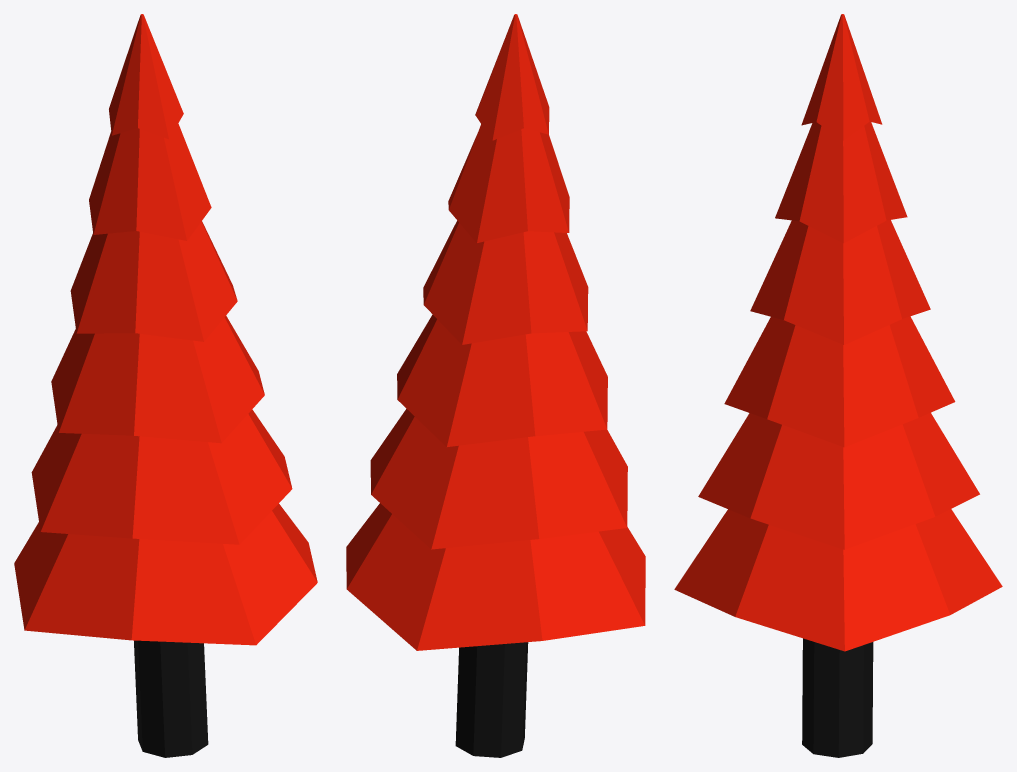
File: LowPolyGran2.obj
3 views of the same model, side by side, from view 1: azimuth 30°, elevation 25°; view 2: azimuth 150°, elevation 25°; view 3: azimuth 270°, elevation 25° (orthographic). The views are drawn at different scales.
Visible parts, largest first — view 1: SapinHiver.015_Cylinder.000; view 2: SapinHiver.015_Cylinder.000; view 3: SapinHiver.015_Cylinder.000.
Part boxes in pixels (left/top/right/bottom): SapinHiver.015_Cylinder.000: left=14, top=14, right=317, bottom=757; SapinHiver.015_Cylinder.000: left=346, top=14, right=645, bottom=757; SapinHiver.015_Cylinder.000: left=674, top=14, right=1002, bottom=757.
Bounding box in the file's own units: 2.08 × 5.01 × 2.08.
